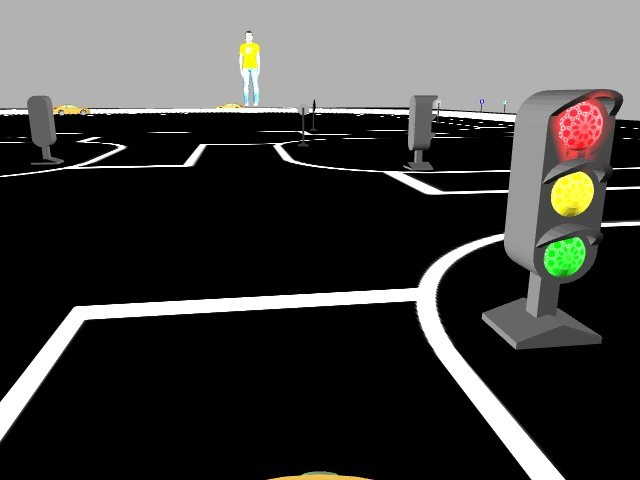TrafficLight: (507, 86, 619, 283)
